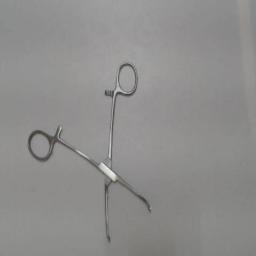Allis Tissue Forceps: (22, 58, 158, 252)
